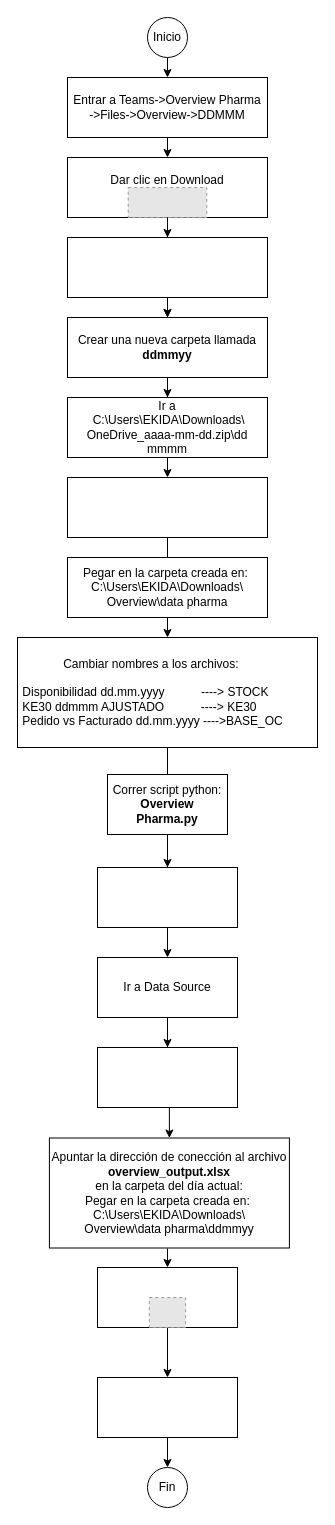
Some shapes in this 335 by 1525 pixel diagram are drawn without their labels. Grey dashed boxes stand in for pictures. The box of each missing label's shape, as (x1, y1, x2, y2) in pixels:
Abrir archivo Tableau: Overview Pharma.twbx: (96, 866, 238, 928)
Clic en Edit Conection...: (96, 1046, 238, 1108)
Clic en:: (96, 1266, 238, 1328)
Copiar los 3 archvivos: (66, 476, 268, 538)
Ir a C:\Users\EKIDA\Downloads\ Overview\data pharma: (66, 236, 268, 298)
Publicar en Tableau Server: (96, 1376, 238, 1438)
